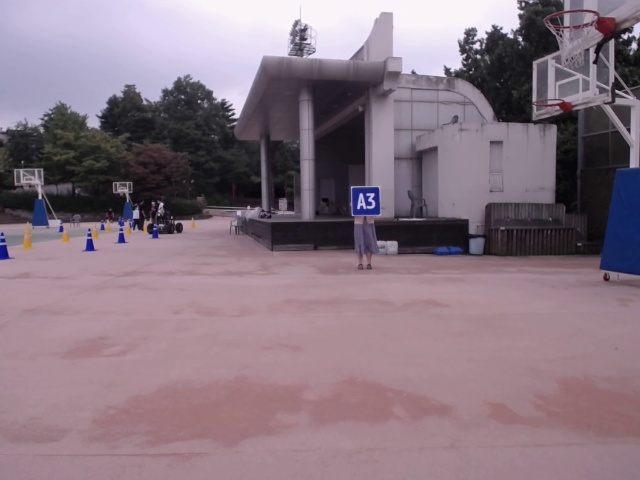delivery_a3: (351, 186, 381, 216)
